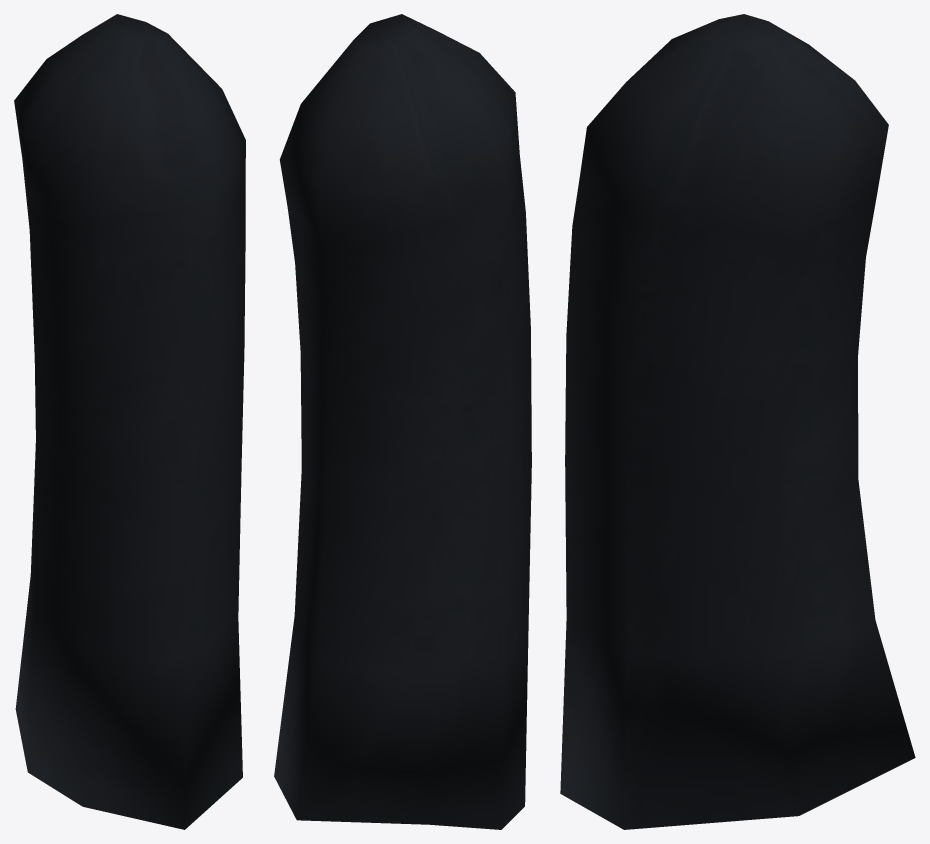
The model's file is LeftLeg2.dae.
3 views of the same model, side by side, from view 1: azimuth 30°, elevation 25°; view 2: azimuth 150°, elevation 25°; view 3: azimuth 270°, elevation 25° (orthographic). The views are drawn at different scales.
Visible parts, largest first — view 1: H_DDS_LowRes_007; view 2: H_DDS_LowRes_007; view 3: H_DDS_LowRes_007.
Boxes of the visible parts, x1,y1,x2,y2 form: H_DDS_LowRes_007: [14, 14, 245, 829]; H_DDS_LowRes_007: [274, 14, 531, 829]; H_DDS_LowRes_007: [560, 14, 915, 829].
Bounding box in the file's own units: 0.1461 × 0.2207 × 0.5377.
Materials: 1 (1 with a texture image).
